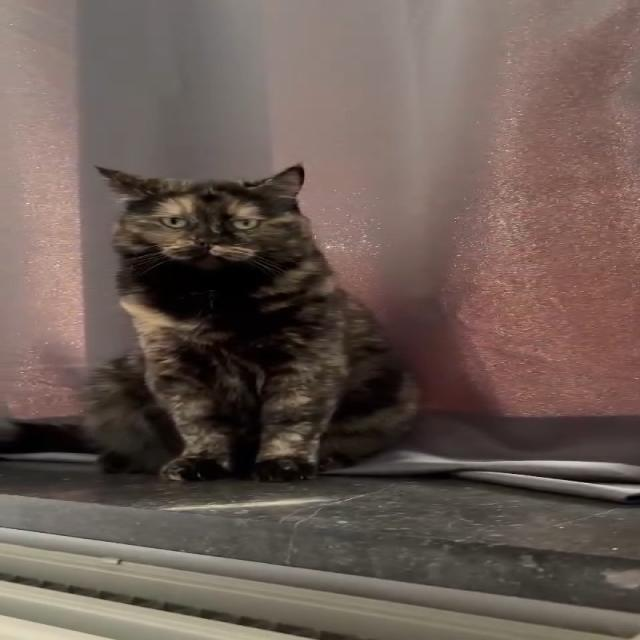authorized: (80, 162, 421, 482)
